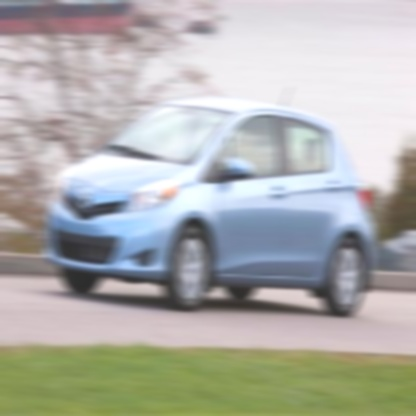Vehicle: (47, 89, 376, 321)
